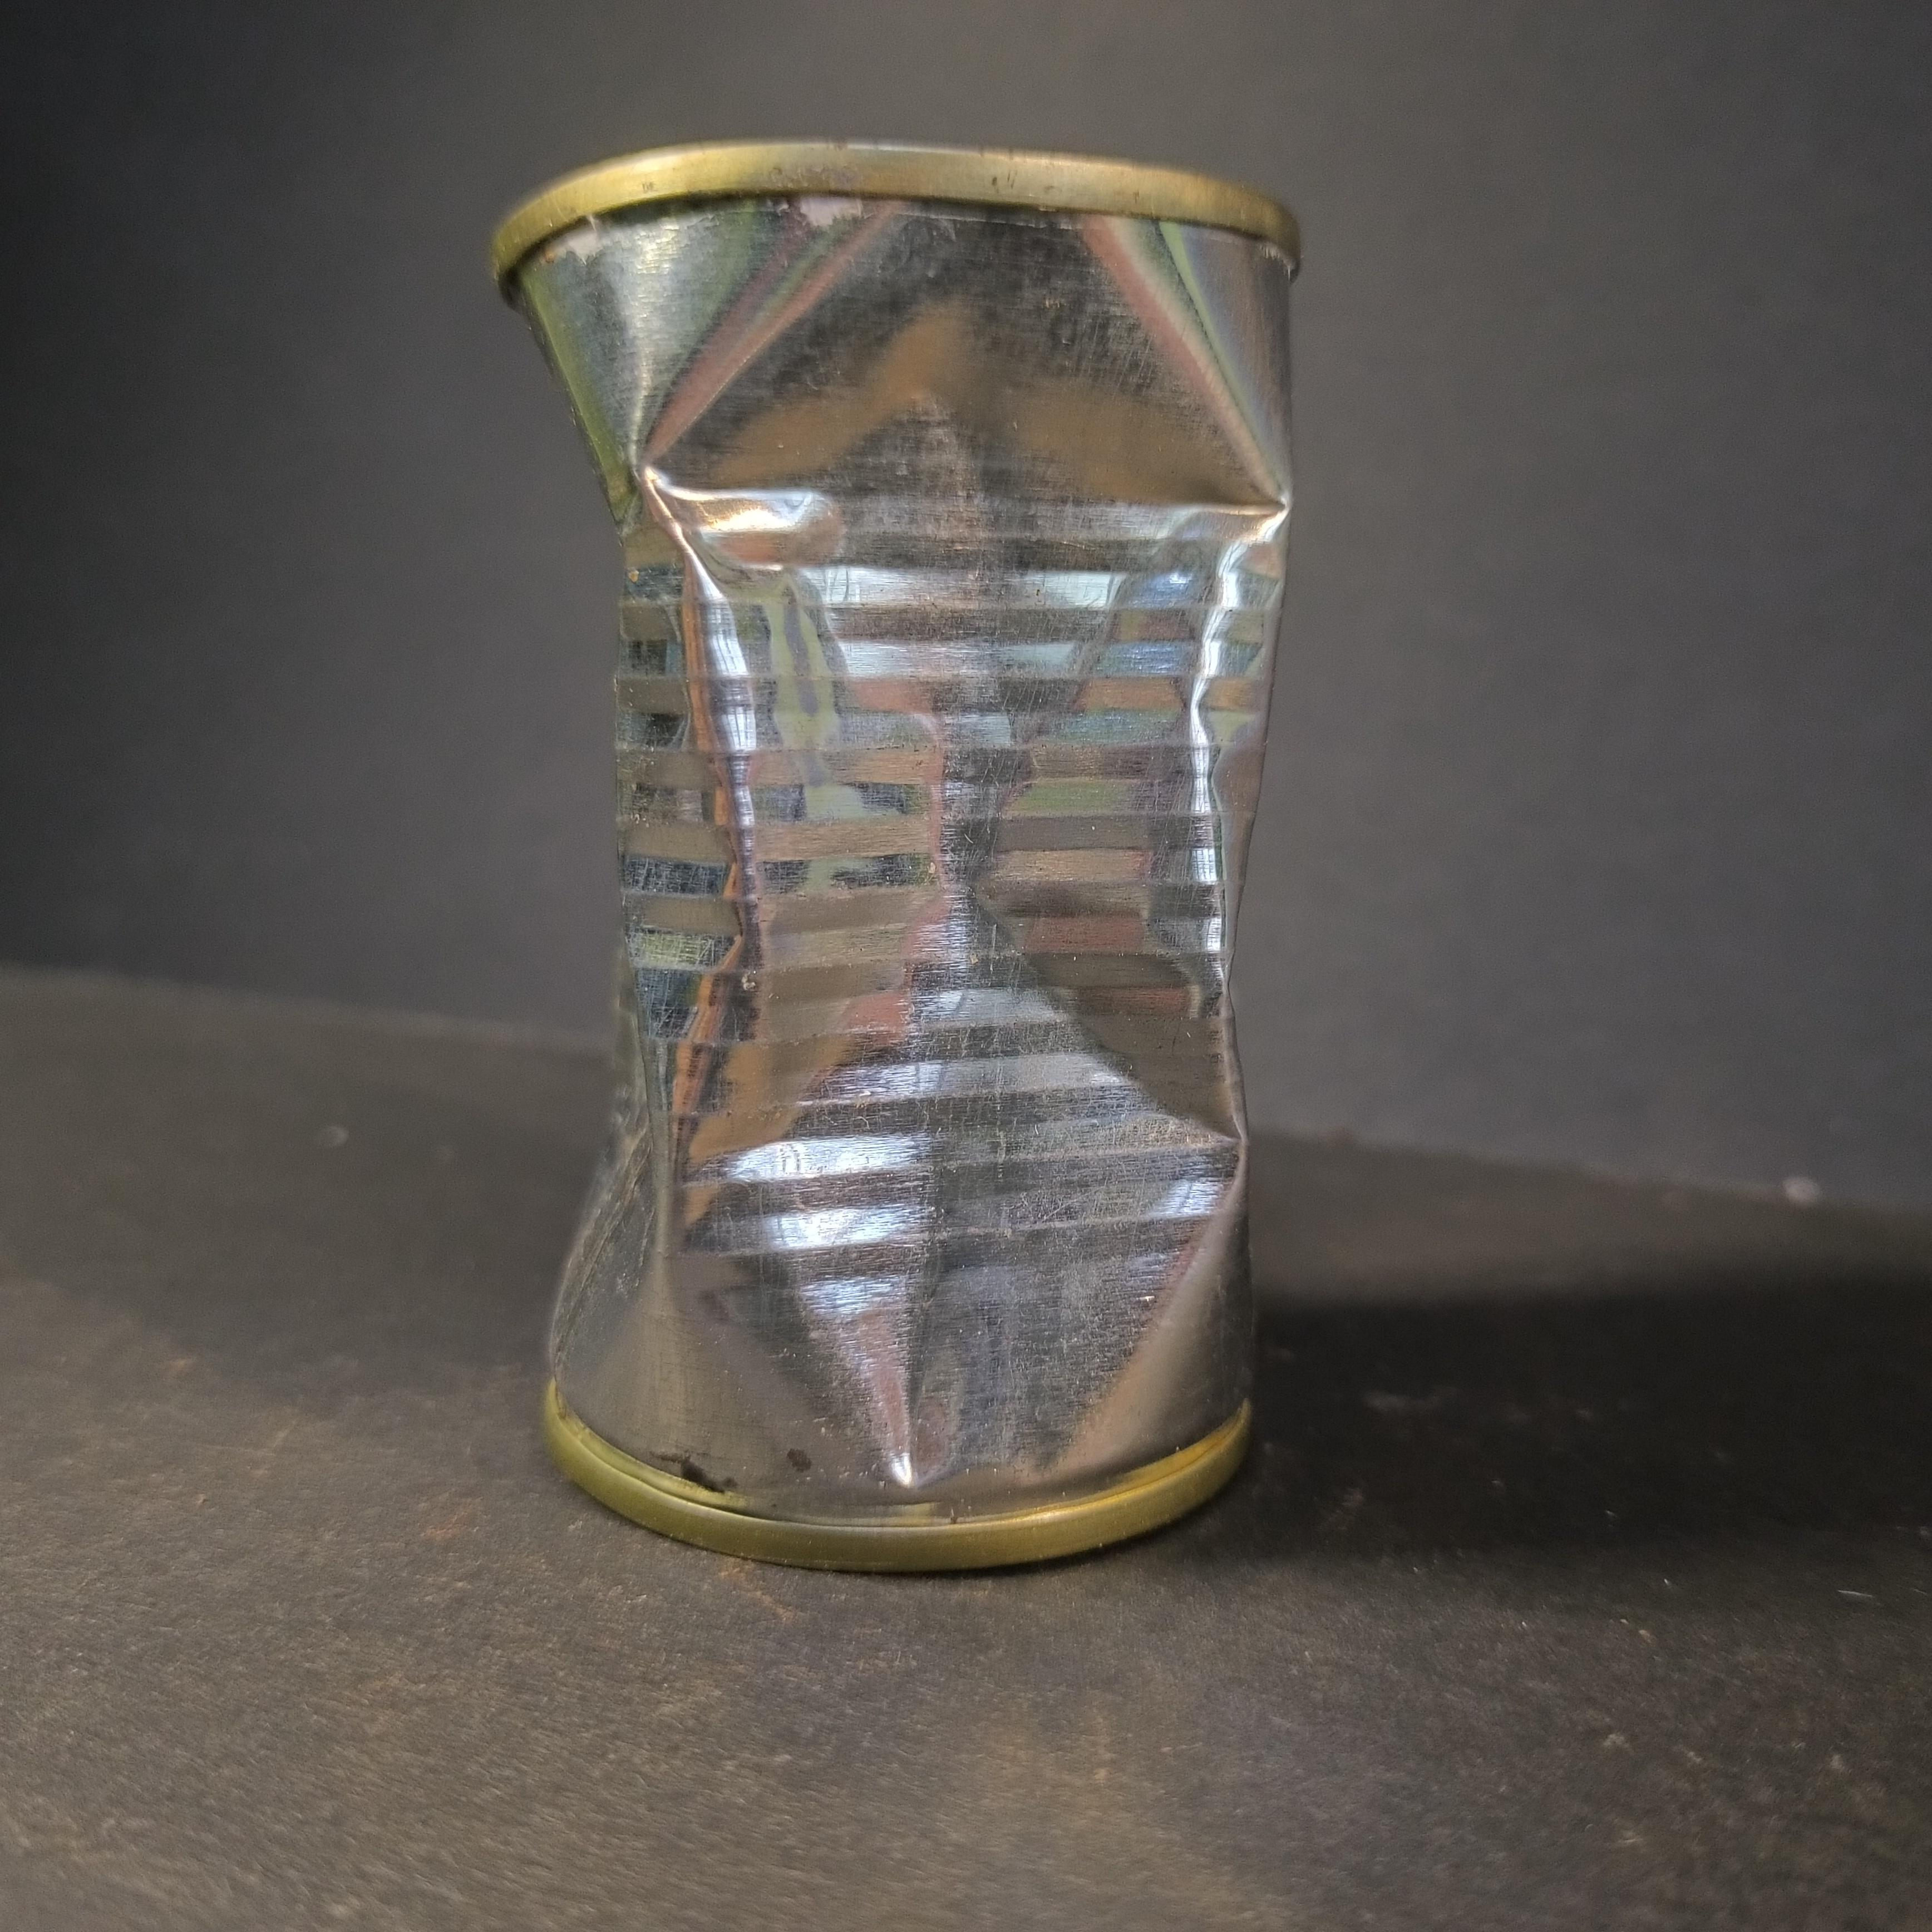Dented: (471, 108, 1330, 1594)
